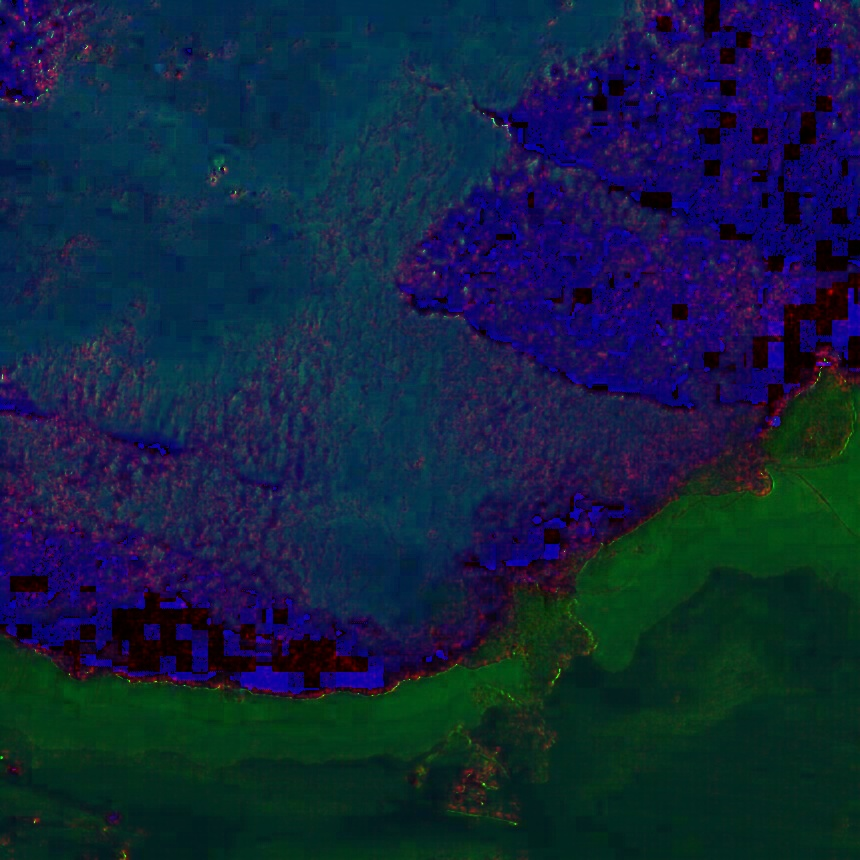rip_current: (236, 138, 499, 607)
